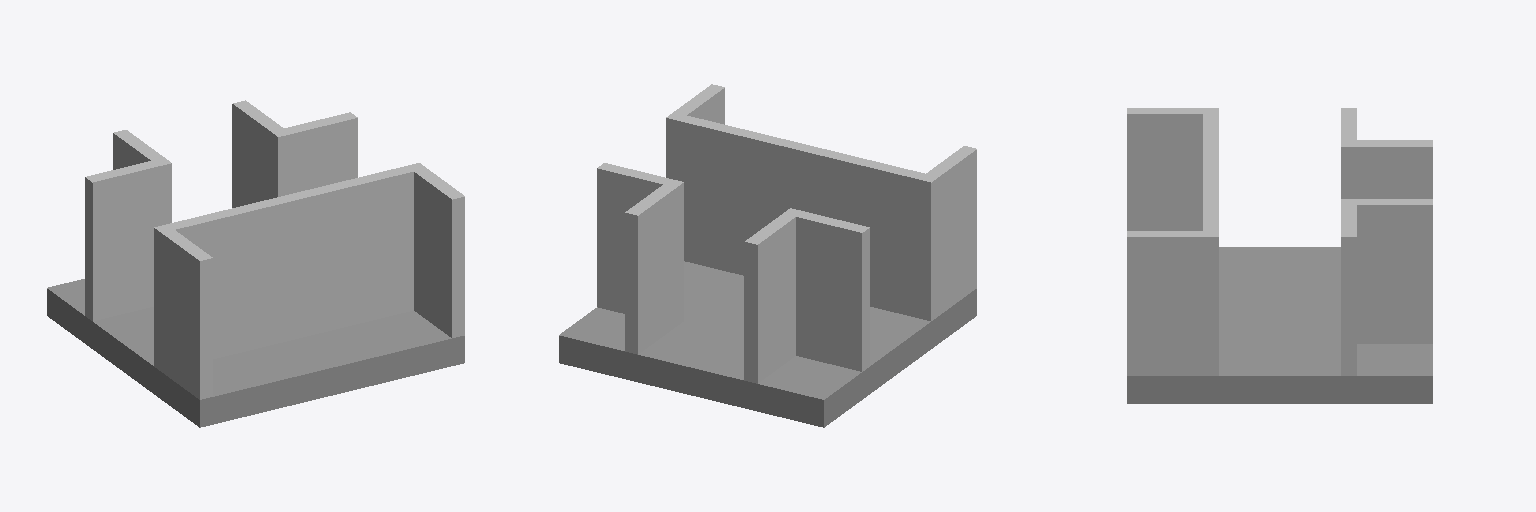
Rendered from hallway-thin_doorway_1.obj.
The picture shows the model from 3 angles: view 1: azimuth 30°, elevation 25°; view 2: azimuth 150°, elevation 25°; view 3: azimuth 270°, elevation 25°; orthographic projection.
Visible parts, largest first — view 1: Cube.002, Cube, Cube.003_Cube.006, Cube.001, Cube.005_Cube.004, Cube.004_Cube.003; view 2: Cube.002, Cube, Cube.003_Cube.006, Cube.001, Cube.004_Cube.003, Cube.005_Cube.004; view 3: Cube, Cube.001, Cube.005_Cube.004, Cube.004_Cube.003, Cube.003_Cube.006, Cube.002.
Boxes of the visible parts, box(x1,y1,x2,y2) form: Cube.002: box(154, 163, 425, 371); Cube: box(47, 279, 464, 427); Cube.003_Cube.006: box(85, 130, 171, 320); Cube.001: box(232, 100, 357, 207); Cube.005_Cube.004: box(414, 168, 464, 337); Cube.004_Cube.003: box(162, 230, 212, 399); Cube.002: box(666, 112, 938, 320); Cube: box(559, 261, 976, 427); Cube.003_Cube.006: box(744, 208, 869, 383); Cube.001: box(597, 163, 683, 354); Cube.004_Cube.003: box(926, 146, 976, 315); Cube.005_Cube.004: box(674, 84, 724, 124); Cube: box(1127, 247, 1432, 403); Cube.001: box(1341, 199, 1432, 375); Cube.005_Cube.004: box(1127, 231, 1202, 375); Cube.004_Cube.003: box(1127, 108, 1202, 230); Cube.003_Cube.006: box(1341, 108, 1432, 198); Cube.002: box(1203, 108, 1218, 375).
Bounding box in the file's own units: 10 × 6 × 10.